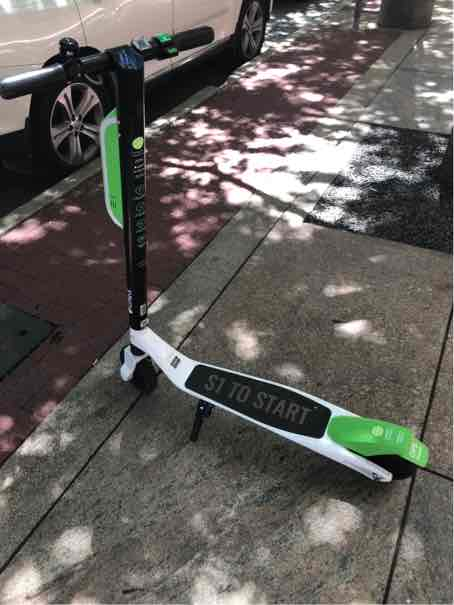scooter: (3, 26, 434, 491)
